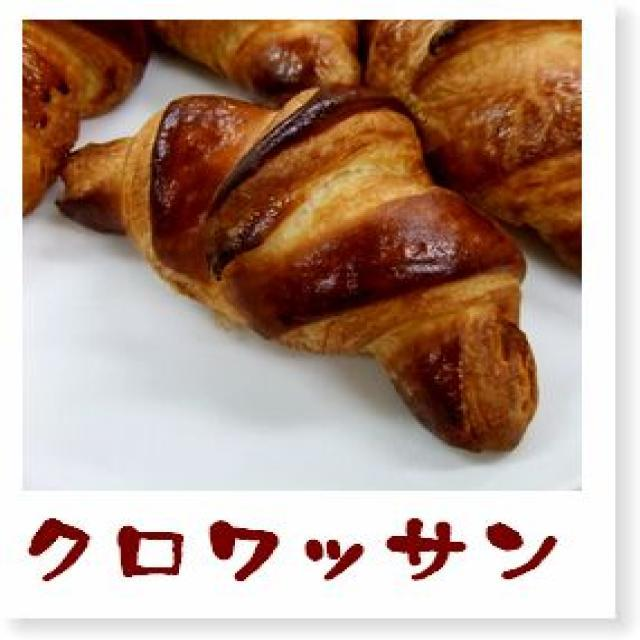Croissant: (70, 75, 540, 457)
